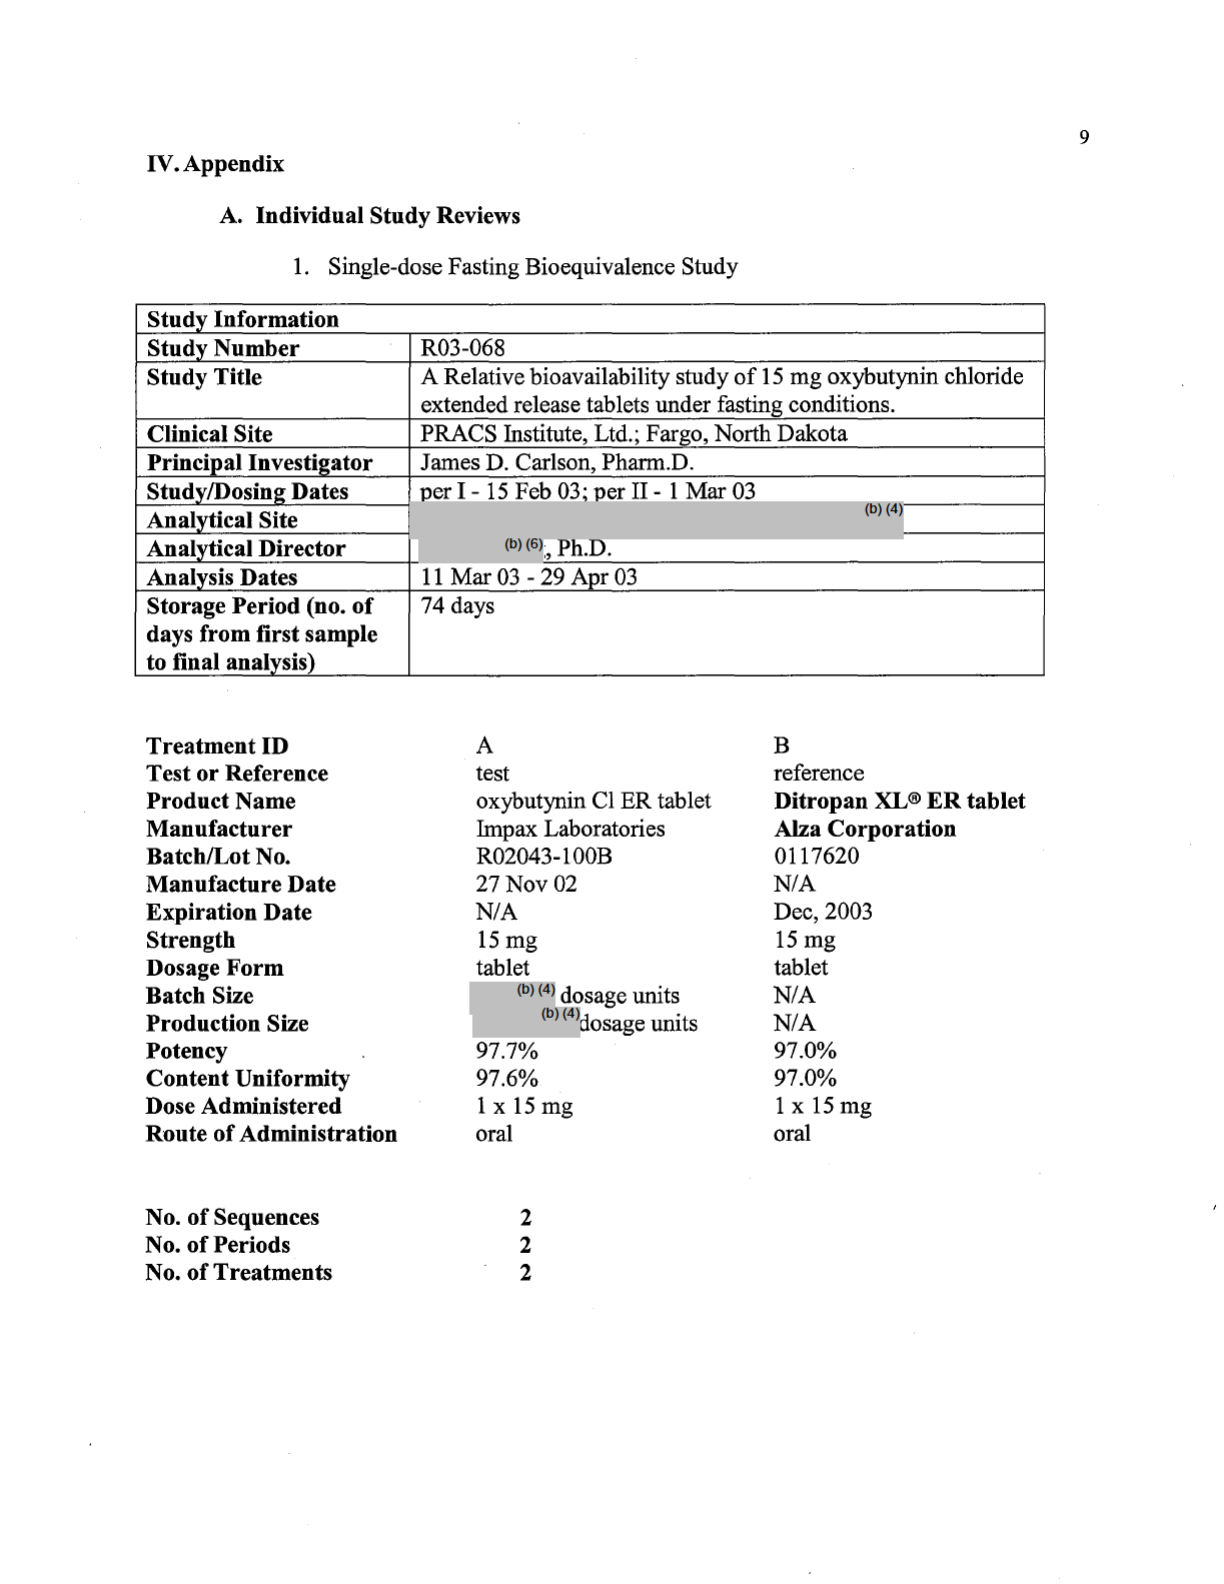merged_cells: (134, 301, 1047, 678)
nolines: (141, 732, 1029, 1149), (141, 1203, 534, 1286)
